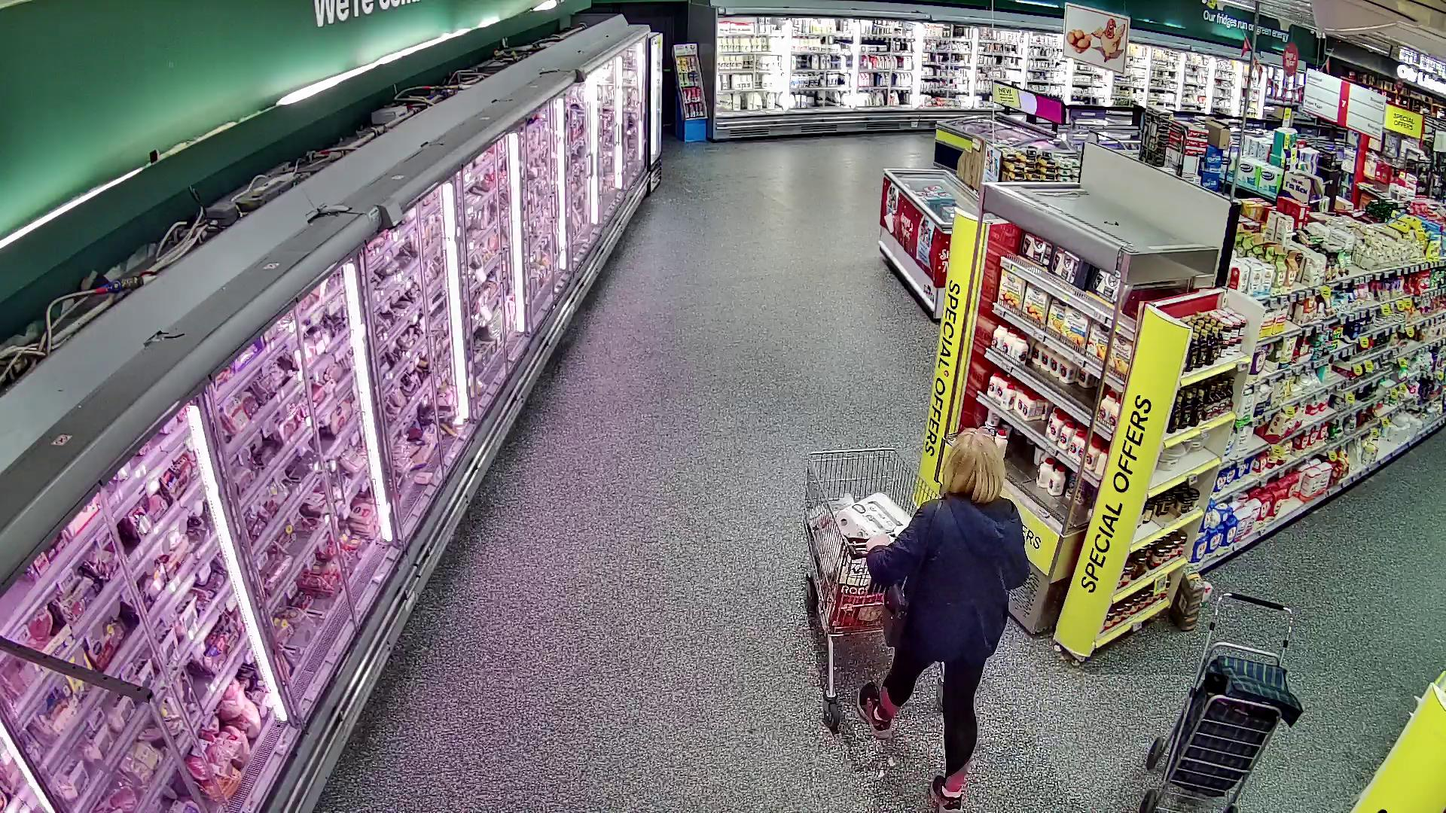filled-trolly: (804, 447, 951, 731)
person: (856, 430, 1029, 813)
person-with-filled-basket-trolly: (804, 429, 1029, 812)
